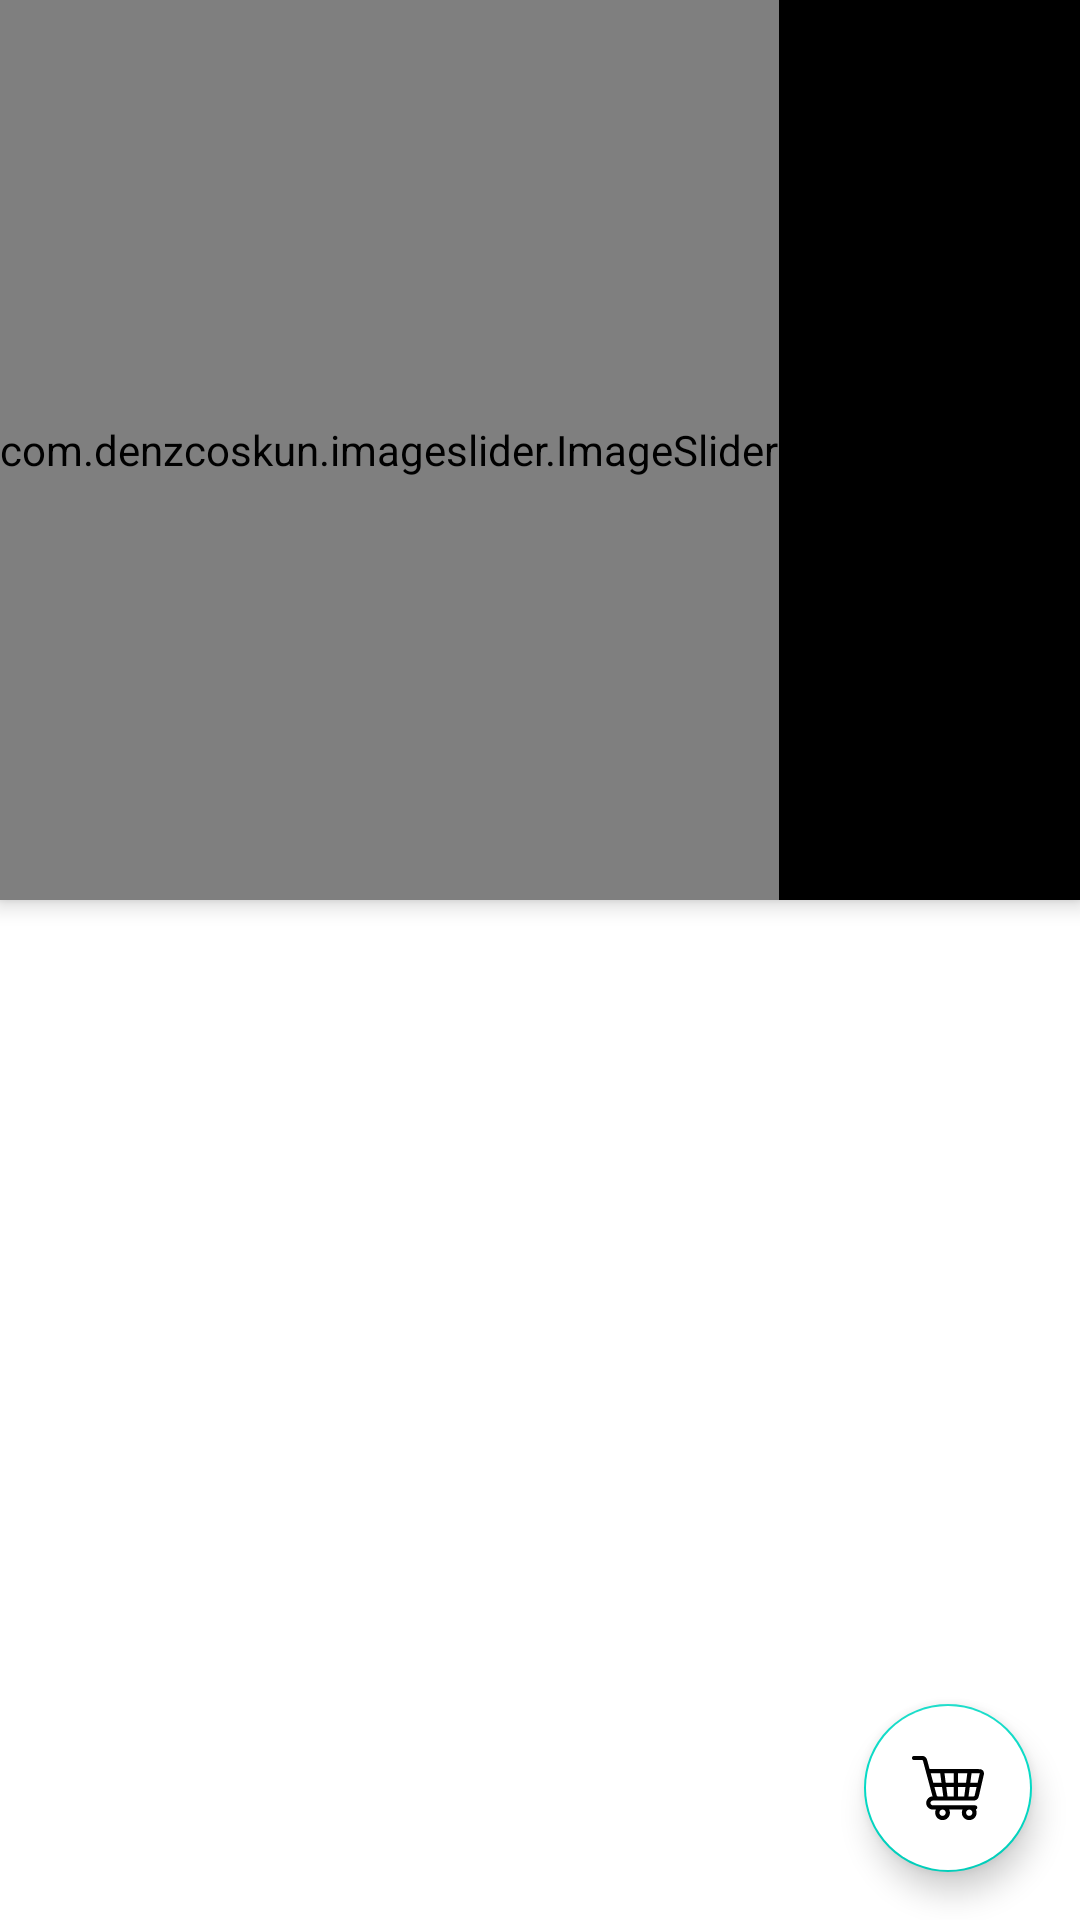

Locate icon controls on the screen. Image size 1080px×1920px, boxes as (x1, y1, x2, y2).
shopping cart: (864, 1704, 1032, 1872)
